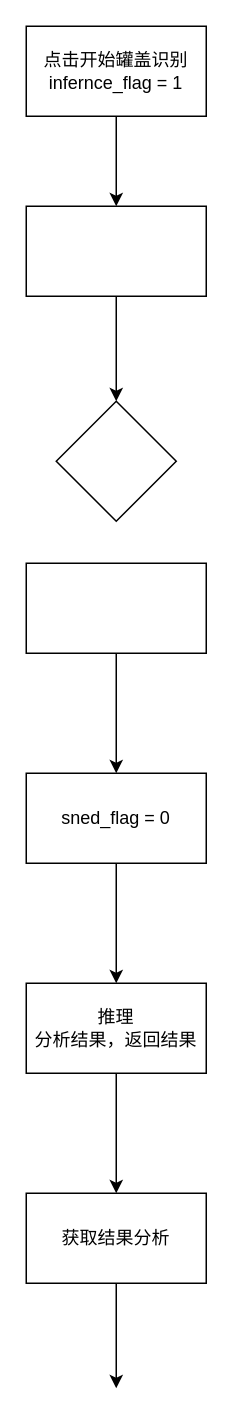
This 233x1427 diagram has some shape labels left out. Here are the shapes that lost their labels. From the top down, the centre of each, then its label:
(115,250): send_flag = 1
(115,607): rtsp解码线程 发送解码图片信号
